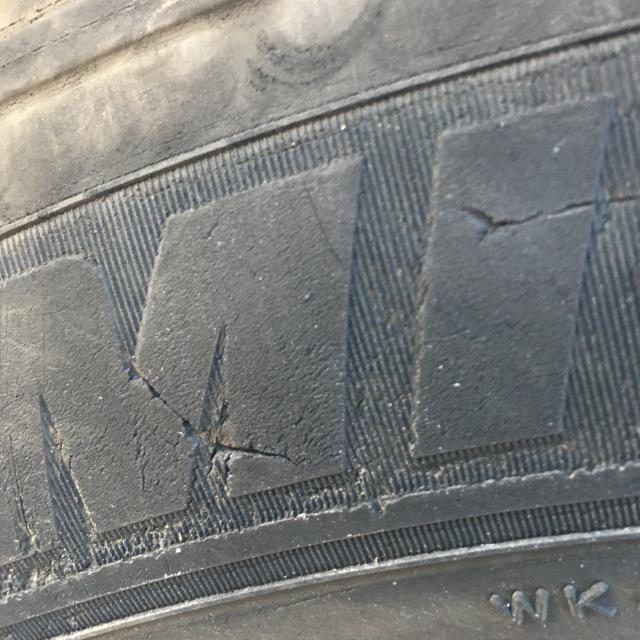Cracks: (0, 137, 640, 601)
